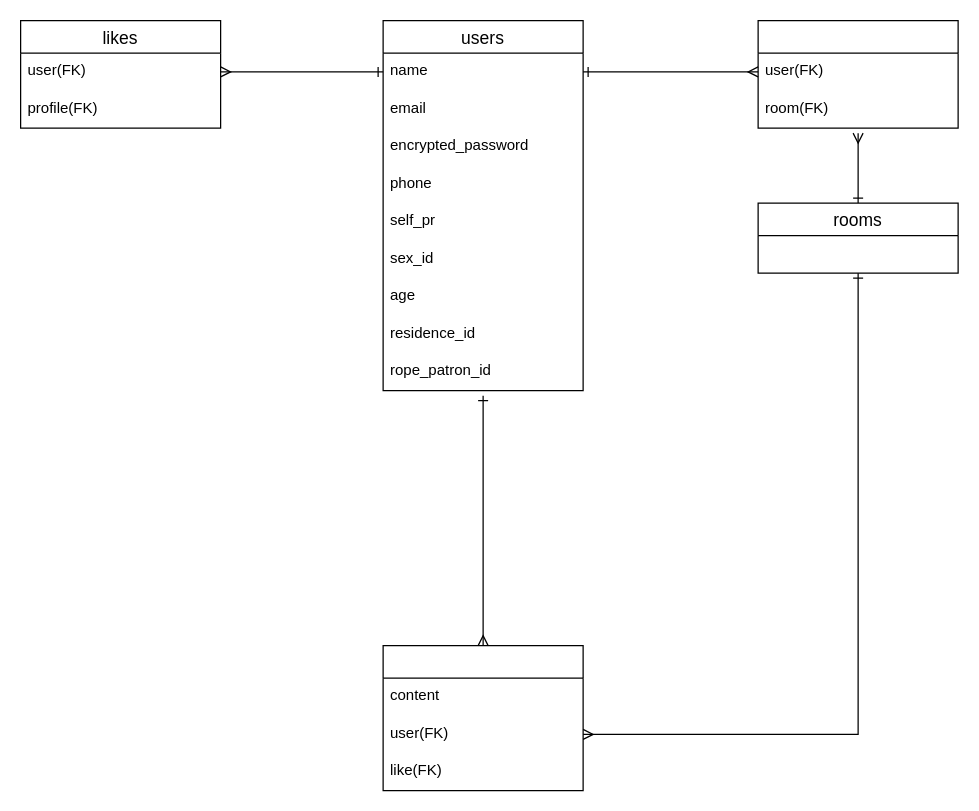
This 979x811 diagram has some shape labels left out. Each missing label, with the box of its shape:
messages: (382, 644, 583, 791)
room_users: (757, 19, 958, 128)
